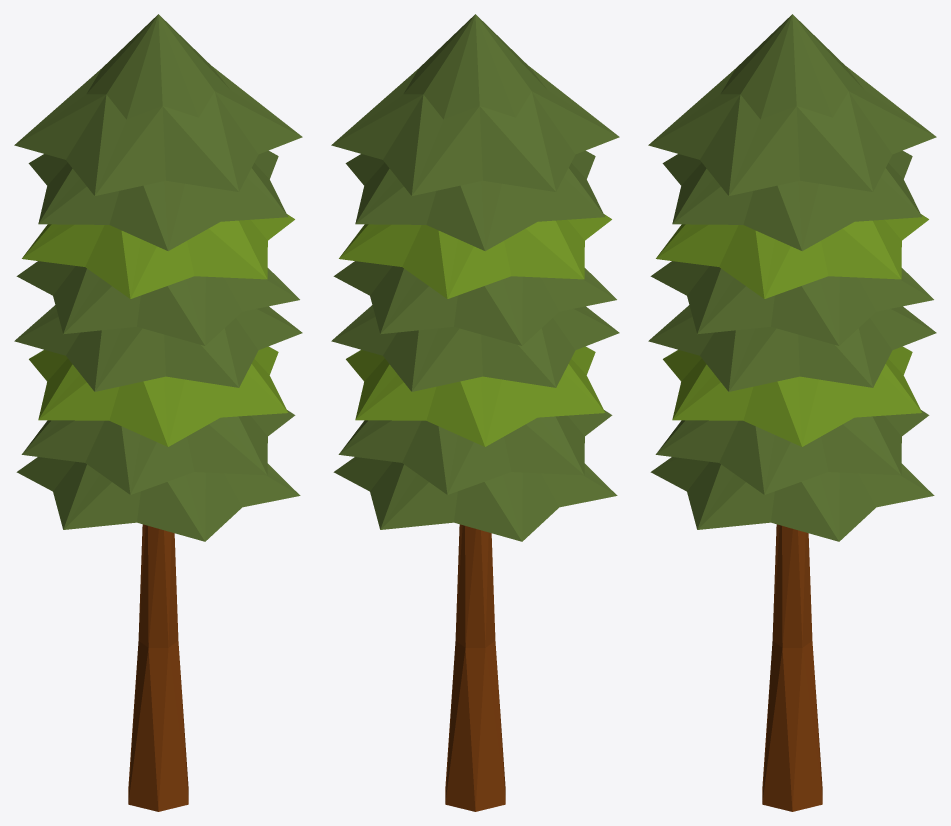
Rendered from hedgehog_pine_large.fbx.
The picture shows the model from 3 angles, left to right: view 1: azimuth 30°, elevation 25°; view 2: azimuth 150°, elevation 25°; view 3: azimuth 270°, elevation 25°; orthographic projection.
Parts seen in each view (by area): view 1: G-Object.002, G-Object.001; view 2: G-Object.002, G-Object.001; view 3: G-Object.002, G-Object.001.
Boxes of the visible parts, x1,y1,x2,y2 form: G-Object.002: [14, 14, 302, 541]; G-Object.001: [128, 524, 188, 811]; G-Object.002: [331, 14, 619, 541]; G-Object.001: [445, 524, 505, 811]; G-Object.002: [648, 14, 936, 541]; G-Object.001: [762, 524, 822, 811].
Bounding box in the file's own units: 334 × 1000 × 334.
